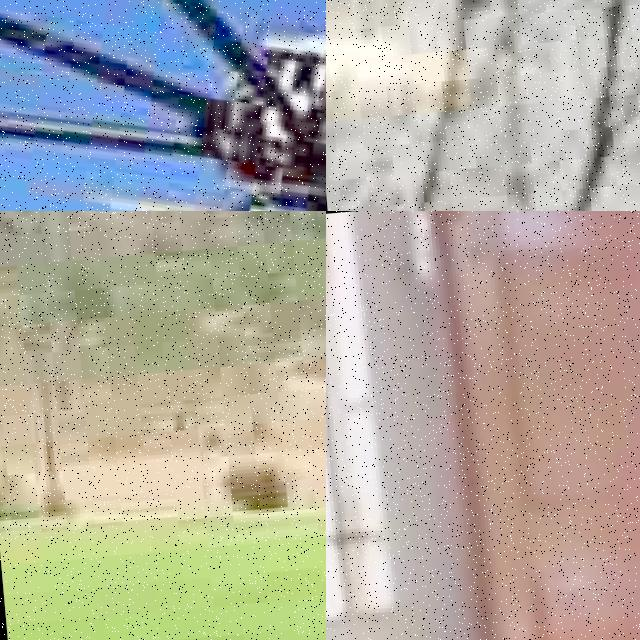drone: (0, 0, 326, 211)
